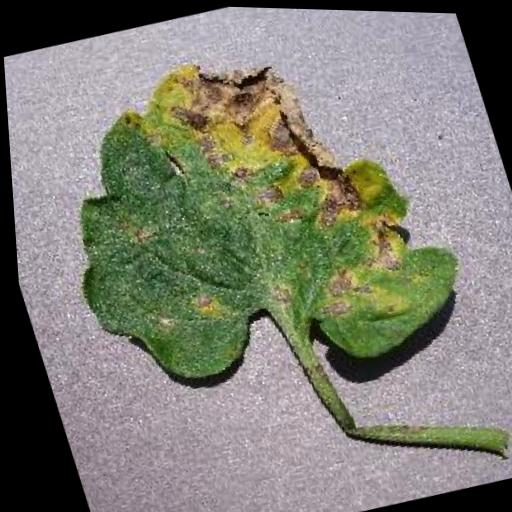Septoria: (16, 5, 479, 422)
